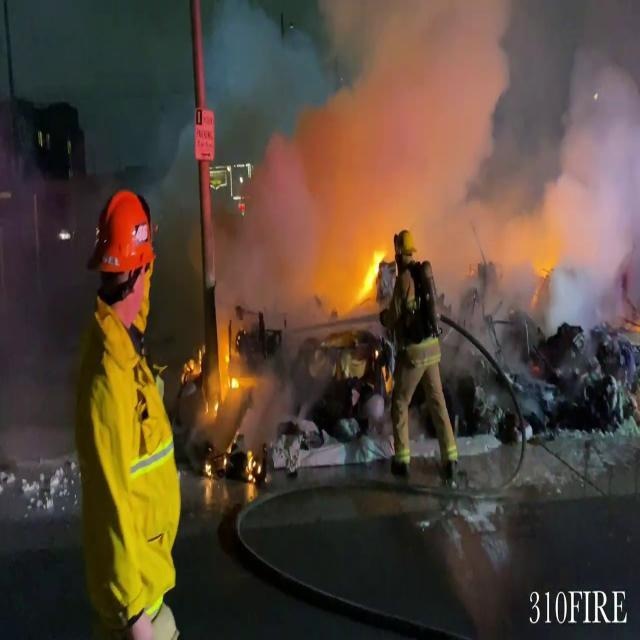Fire: (358, 242, 386, 304)
Smoke: (217, 1, 640, 326)
